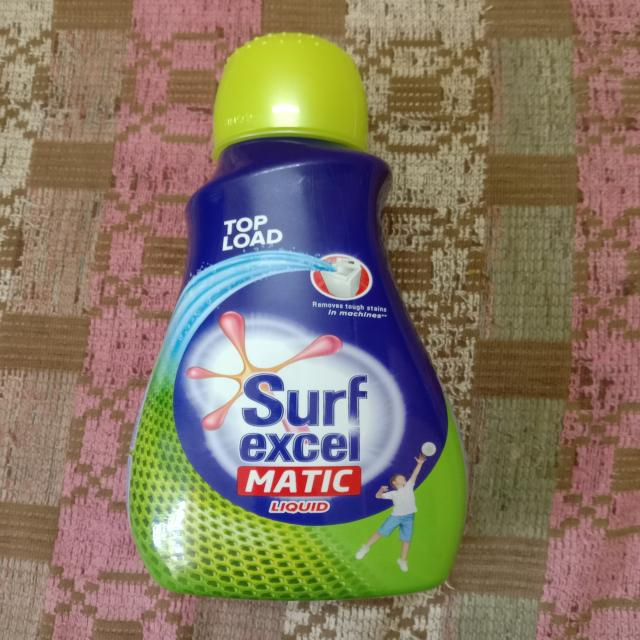detergent: (122, 39, 474, 609)
